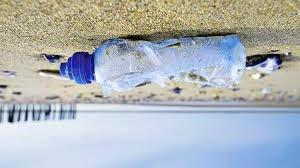Plastic: (41, 23, 264, 115)
